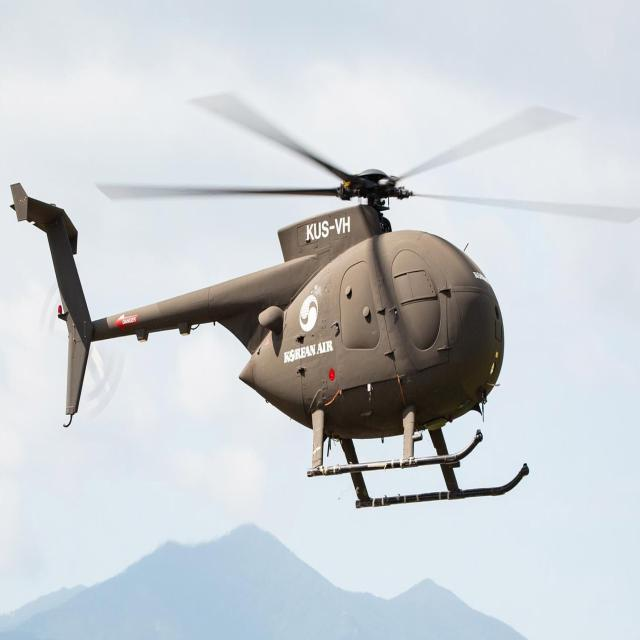helicopter: (7, 72, 567, 512)
